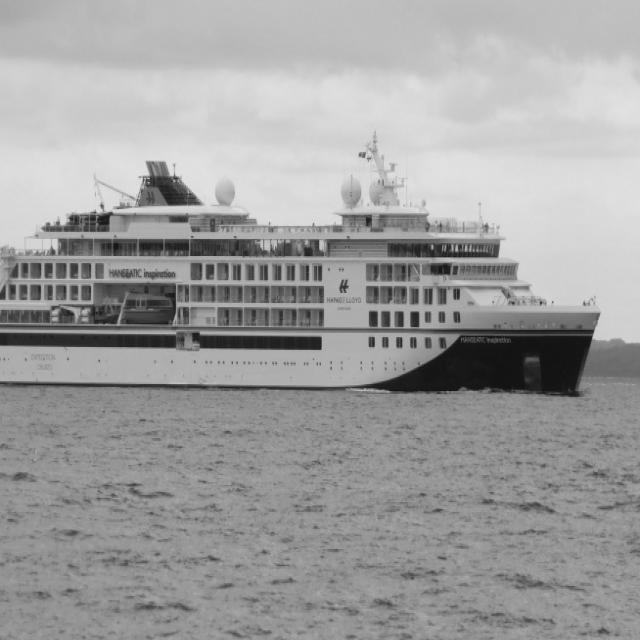cruises: (1, 140, 607, 405)
